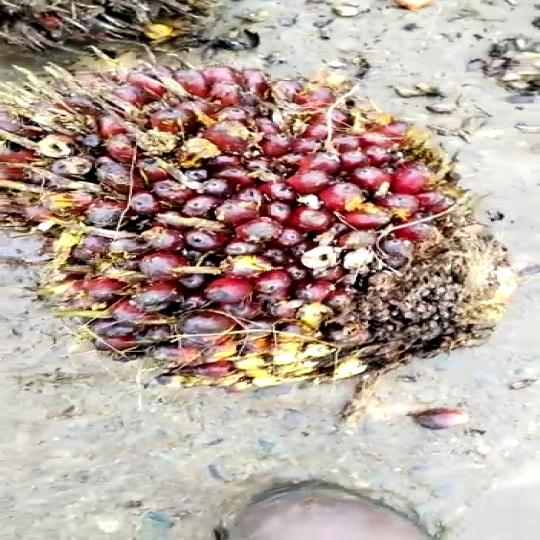kurang masak: (13, 47, 482, 391)
